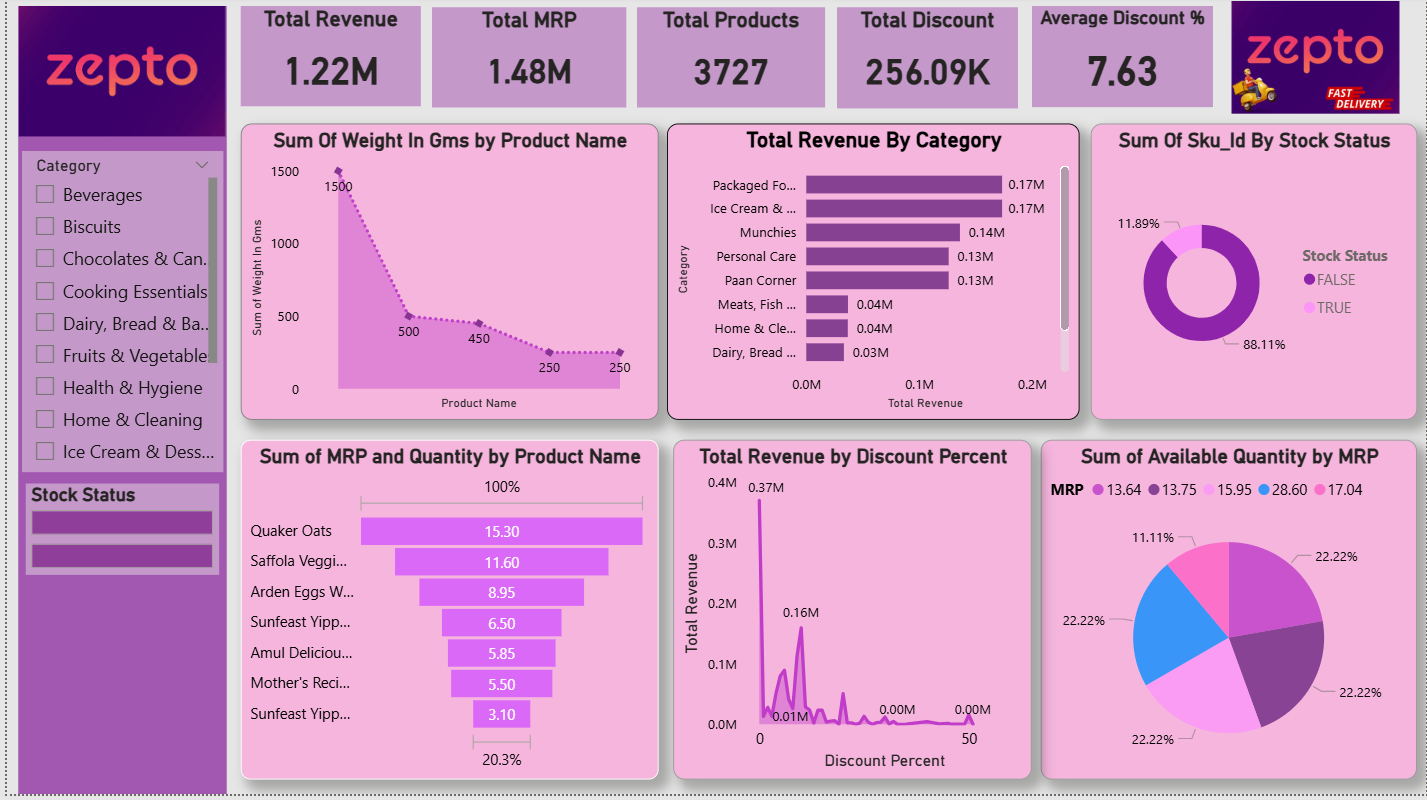

Layout of this report page (visuals, bound fields, positions):
{"tool":"powerbi","page":{"name":"Page 1","canvas":[1280,720],"ordinal":0},"visuals":[{"type":"textbox","box":[10.1,9,188.2,711.2],"z":0},{"type":"image","box":[9,9,189.4,117.2],"z":1000},{"type":"slicer","fields":{"Values":["zeptoprj zepto_v2.Category"]},"box":[14,139.5,181.4,289.5],"z":2000},{"type":"advancedSlicerVisual","fields":{"Values":["zeptoprj zepto_v2.Stock Status"]},"box":[17.4,439.5,174.4,82.6],"z":3000},{"type":"card","title":"Total Revenue","fields":{"Values":["zeptoprj zepto_v2.Total Revenue"]},"box":[210.5,9.3,162.8,90.7],"z":4000},{"type":"card","title":"Total MRP","fields":{"Values":["zeptoprj zepto_v2.Total MRP"]},"box":[383.7,10.5,175.6,90.7],"z":5000},{"type":"card","title":"Total Discount","fields":{"Values":["zeptoprj zepto_v2.Total Discount"]},"box":[748.4,10.1,163.4,91.3],"z":6000},{"type":"card","title":"Total Products","fields":{"Values":["zeptoprj zepto_v2.Total products"]},"box":[568.6,10.5,169.8,90.7],"z":7000},{"type":"card","title":"Average Discount %","fields":{"Values":["zeptoprj zepto_v2.Avreage Discount %"]},"box":[924.2,9,163.4,91.3],"z":8000},{"type":"stackedAreaChart","title":"Sum Of Weight In Gms by Product Name","fields":{"Category":["zeptoprj zepto_v2.Product Name"],"Y":["Sum(zeptoprj zepto_v2.Weight In Gms)"]},"box":[210.8,115,376.5,267.1],"z":9000},{"type":"clusteredBarChart","title":"Total Revenue By Category","fields":{"Category":["zeptoprj zepto_v2.Category"],"Y":["zeptoprj zepto_v2.Total Revenue"]},"box":[595.1,115,371.9,267.1],"z":10000},{"type":"donutChart","title":"Sum Of Sku_Id By Stock Status","fields":{"Category":["zeptoprj zepto_v2.Stock Status"],"Y":["Sum(zeptoprj zepto_v2.Sku_id)"]},"box":[977.2,115,294.2,267.1],"z":11000},{"type":"funnel","title":"Sum of MRP and  Quantity by Product Name","fields":{"Category":["zeptoprj zepto_v2.Product Name"],"Y":["Sum(zeptoprj zepto_v2.MRP)"]},"box":[210.8,400.1,376.5,306.6],"z":12000},{"type":"pieChart","fields":{"Y":["Sum(zeptoprj zepto_v2.Available Quantity)"],"Category":["zeptoprj zepto_v2.MRP"]},"box":[932.1,400.1,339.3,306.6],"z":13000},{"type":"lineChart","fields":{"Category":["zeptoprj zepto_v2.Discount Percent"],"Y":["zeptoprj zepto_v2.Total Revenue"]},"box":[600.8,400.1,323.5,306.6],"z":14000},{"type":"image","box":[1087.7,4.5,183.7,101.4],"z":15000}]}

Visuals, with their boxes in screenshot pixels (x1, y1, x2, y2), scaled from the page's 1280x720 canvas onto the 1427x800 screenshot:
textbox: box=[11, 10, 221, 799]
image: box=[10, 10, 221, 140]
slicer - zeptoprj zepto_v2.Category: box=[16, 155, 218, 477]
advancedSlicerVisual - zeptoprj zepto_v2.Stock Status: box=[19, 488, 214, 580]
"Total Revenue" card: box=[235, 10, 416, 111]
"Total MRP" card: box=[428, 12, 624, 112]
"Total Discount" card: box=[834, 11, 1017, 113]
"Total Products" card: box=[634, 12, 823, 112]
"Average Discount %" card: box=[1030, 10, 1213, 111]
"Sum Of Weight In Gms by Product Name" stackedAreaChart: box=[235, 128, 655, 425]
"Total Revenue By Category" clusteredBarChart: box=[663, 128, 1078, 425]
"Sum Of Sku_Id By Stock Status" donutChart: box=[1089, 128, 1417, 425]
"Sum of MRP and  Quantity by Product Name" funnel: box=[235, 445, 655, 785]
pieChart - Sum(zeptoprj zepto_v2.Available Quantity) x zeptoprj zepto_v2.MRP: box=[1039, 445, 1417, 785]
lineChart - zeptoprj zepto_v2.Discount Percent x zeptoprj zepto_v2.Total Revenue: box=[670, 445, 1030, 785]
image: box=[1213, 5, 1417, 118]
